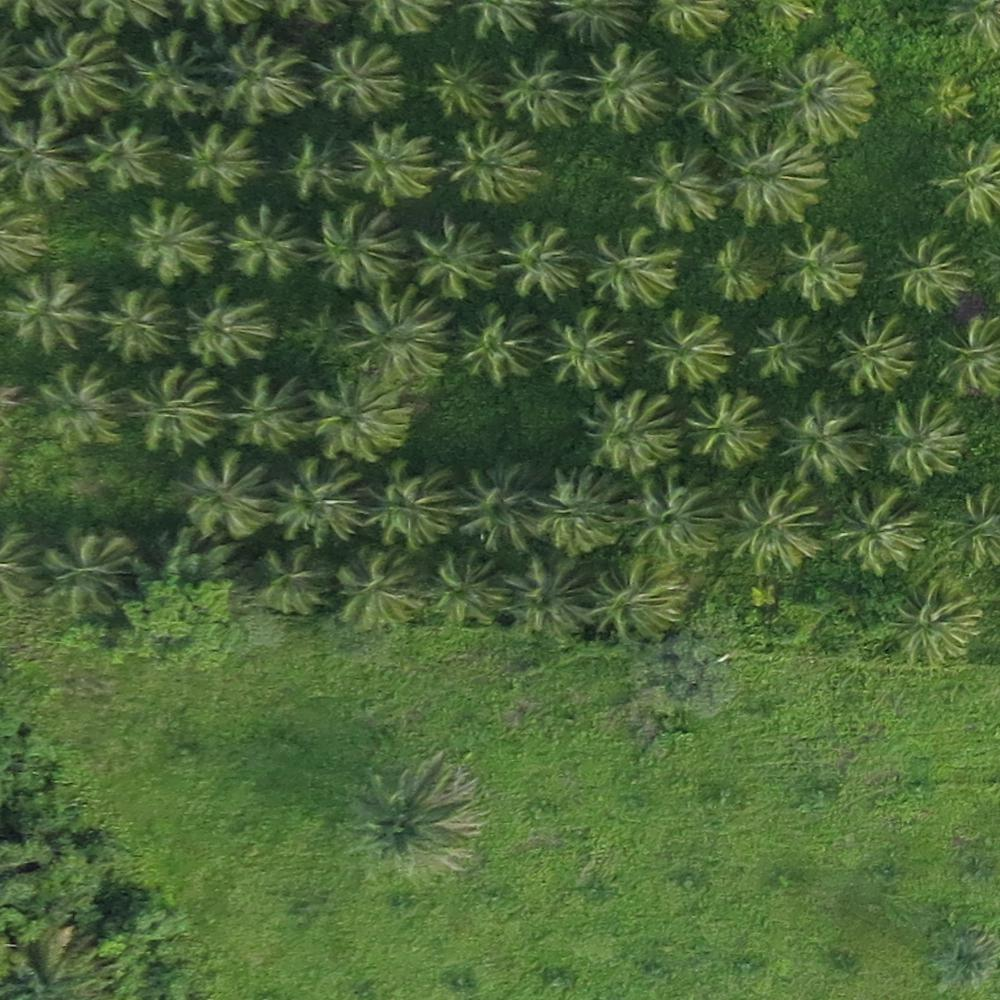Palm: (358, 754, 466, 862), (771, 45, 875, 142), (723, 477, 827, 572), (348, 284, 453, 377), (725, 130, 823, 225), (308, 372, 407, 463), (773, 392, 875, 480), (578, 392, 685, 475), (20, 25, 116, 113), (307, 208, 408, 291), (633, 138, 722, 232), (622, 473, 719, 559), (215, 34, 310, 121), (886, 577, 984, 661), (445, 122, 541, 205), (832, 484, 922, 572), (184, 452, 275, 539), (124, 32, 211, 121), (128, 198, 218, 284), (535, 465, 619, 557), (675, 48, 765, 133), (41, 527, 131, 612), (128, 366, 220, 449), (317, 34, 406, 118), (183, 284, 274, 366), (591, 558, 682, 640), (886, 228, 972, 314), (582, 46, 669, 131), (886, 397, 970, 485), (588, 229, 680, 309), (778, 222, 864, 307), (275, 457, 363, 540), (366, 463, 454, 546), (5, 269, 94, 351), (456, 465, 540, 551), (498, 216, 585, 299), (37, 360, 120, 447), (458, 302, 544, 385), (830, 309, 913, 395), (503, 556, 589, 639), (332, 547, 417, 630), (412, 216, 498, 298), (542, 306, 628, 388), (2, 119, 87, 199), (647, 309, 733, 388), (173, 125, 261, 202), (225, 373, 313, 449), (350, 123, 435, 201), (95, 283, 180, 361), (501, 52, 582, 130), (688, 391, 771, 467), (85, 117, 164, 194), (223, 210, 308, 276), (427, 555, 507, 625), (425, 49, 500, 118), (260, 544, 331, 612), (706, 232, 778, 299), (755, 314, 822, 386), (278, 131, 346, 200)
